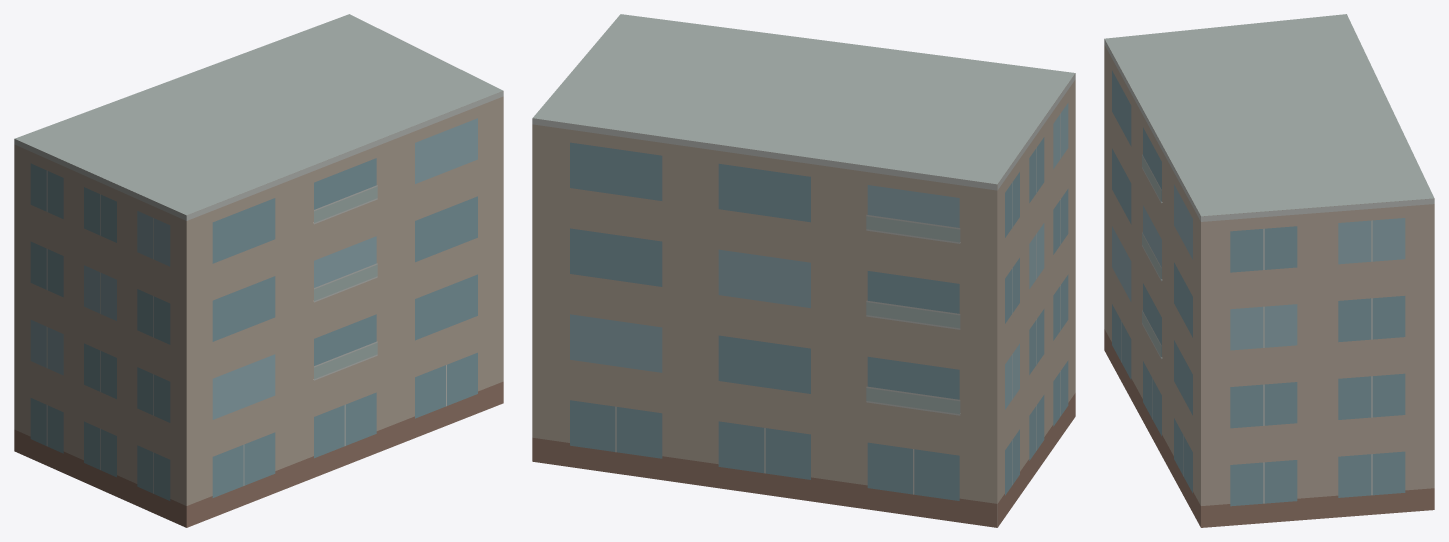
The model's file is survey-upis-32905970.glb.
The picture shows the model from 3 angles, left to right: view 1: azimuth 30°, elevation 25°; view 2: azimuth 150°, elevation 25°; view 3: azimuth 270°, elevation 25°; orthographic projection. The views are drawn at different scales.
Parts seen in each view (by area): view 1: survey-upis-32905970.tmp; view 2: survey-upis-32905970.tmp; view 3: survey-upis-32905970.tmp.
Boxes of the visible parts, x1,y1,x2,y2 form: survey-upis-32905970.tmp: [14, 14, 503, 527]; survey-upis-32905970.tmp: [532, 14, 1075, 527]; survey-upis-32905970.tmp: [1104, 14, 1434, 527].
Bounding box in the file's own units: 18.81 × 13.5 × 12.98.
